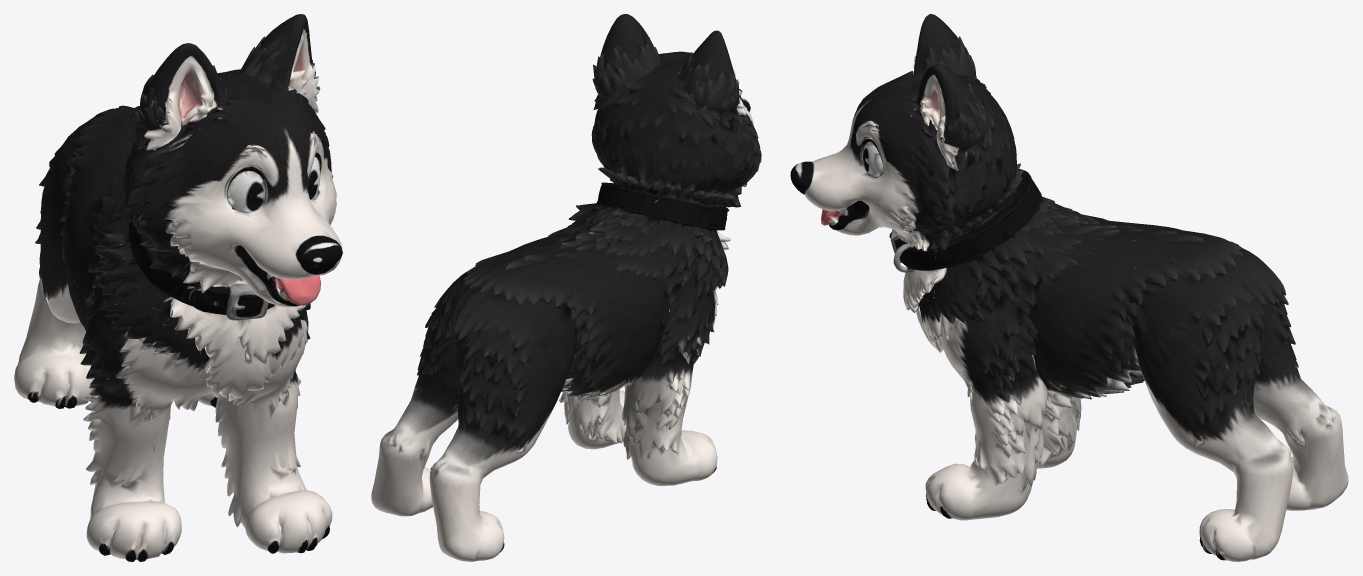
Rendered from dog_husky.glb.
The picture shows the model from 3 angles, left to right: view 1: azimuth 30°, elevation 25°; view 2: azimuth 150°, elevation 25°; view 3: azimuth 270°, elevation 25°; orthographic projection. The views are drawn at different scales.
Bounding box in the file's own units: 1.04 × 1.67 × 1.9.
Materials: 1 (1 with a texture image).
